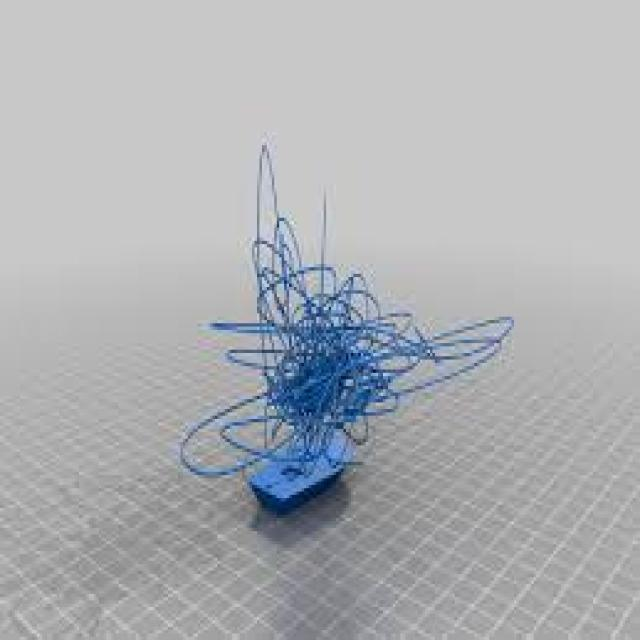spaghetti: (170, 207, 511, 446)
